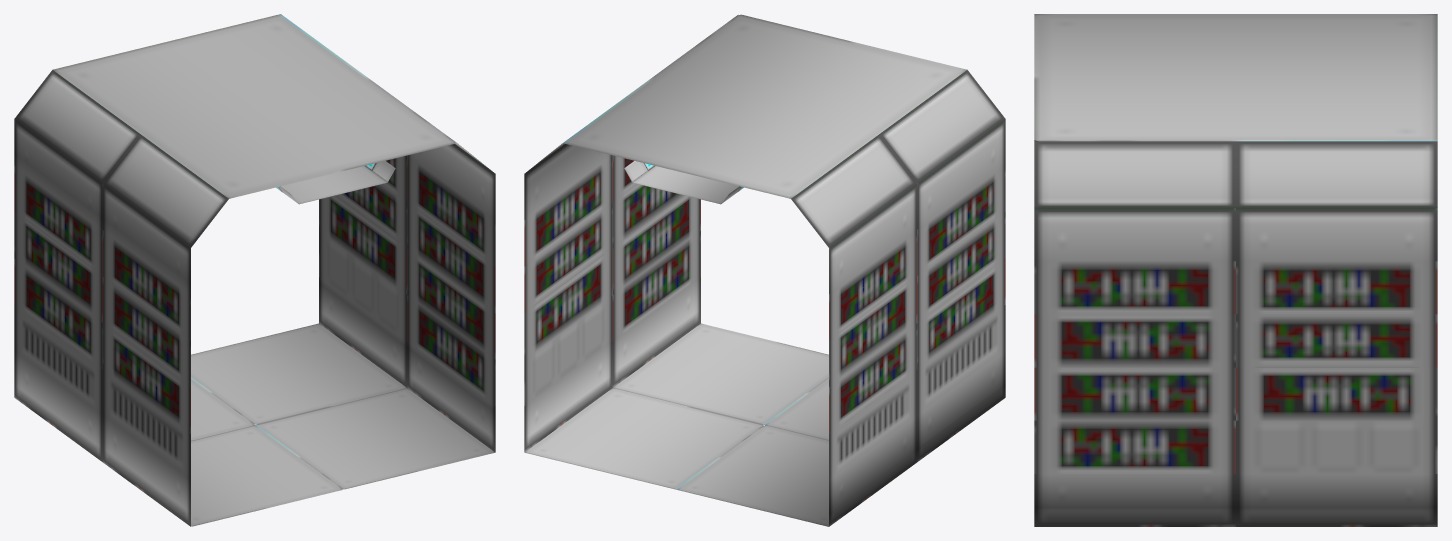
File: corr_3.fbx
3 views of the same model, side by side, from view 1: azimuth 30°, elevation 25°; view 2: azimuth 150°, elevation 25°; view 3: azimuth 270°, elevation 25° (orthographic). The views are drawn at different scales.
Parts seen in each view (by area): view 1: Cube_043; view 2: Cube_043; view 3: Cube_043.
Boxes of the visible parts, x1,y1,x2,y2 form: Cube_043: (14,14,495,526); Cube_043: (524,14,1005,526); Cube_043: (1034,14,1437,526).
Size of the model in its own units: 8 by 8 by 8.03.
